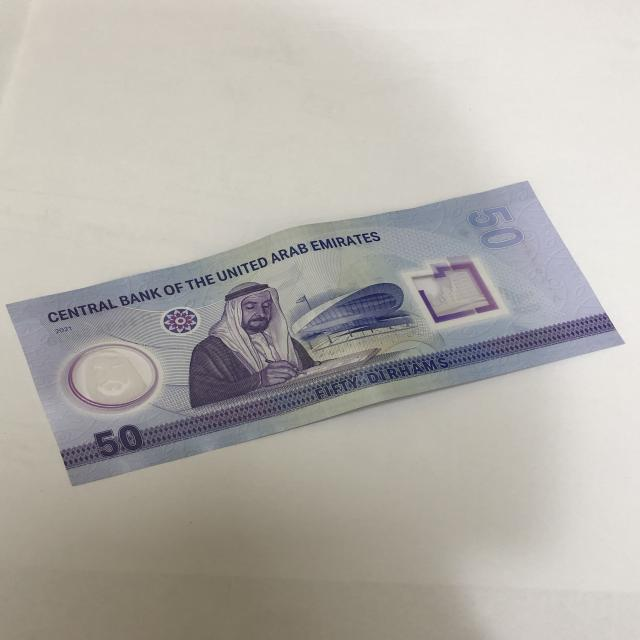50_AED: (6, 176, 629, 490)
